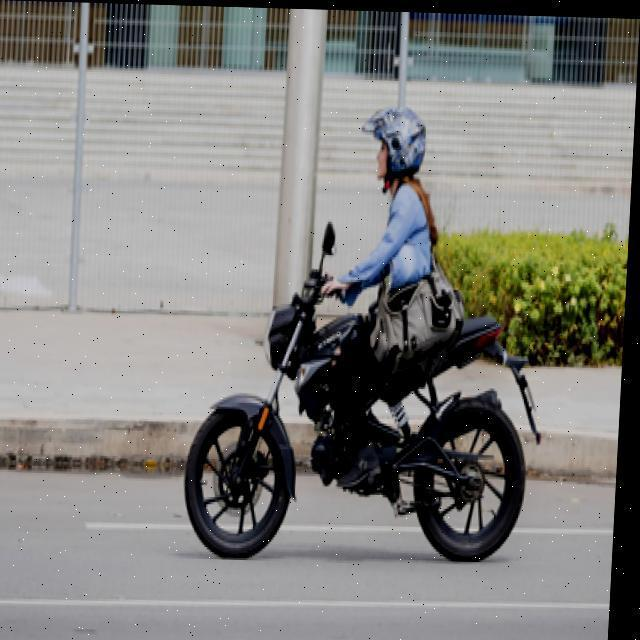Helmet: (360, 90, 436, 184)
